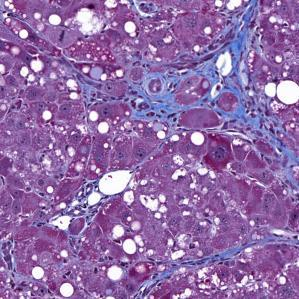fibrosis: (122, 56, 248, 133)
